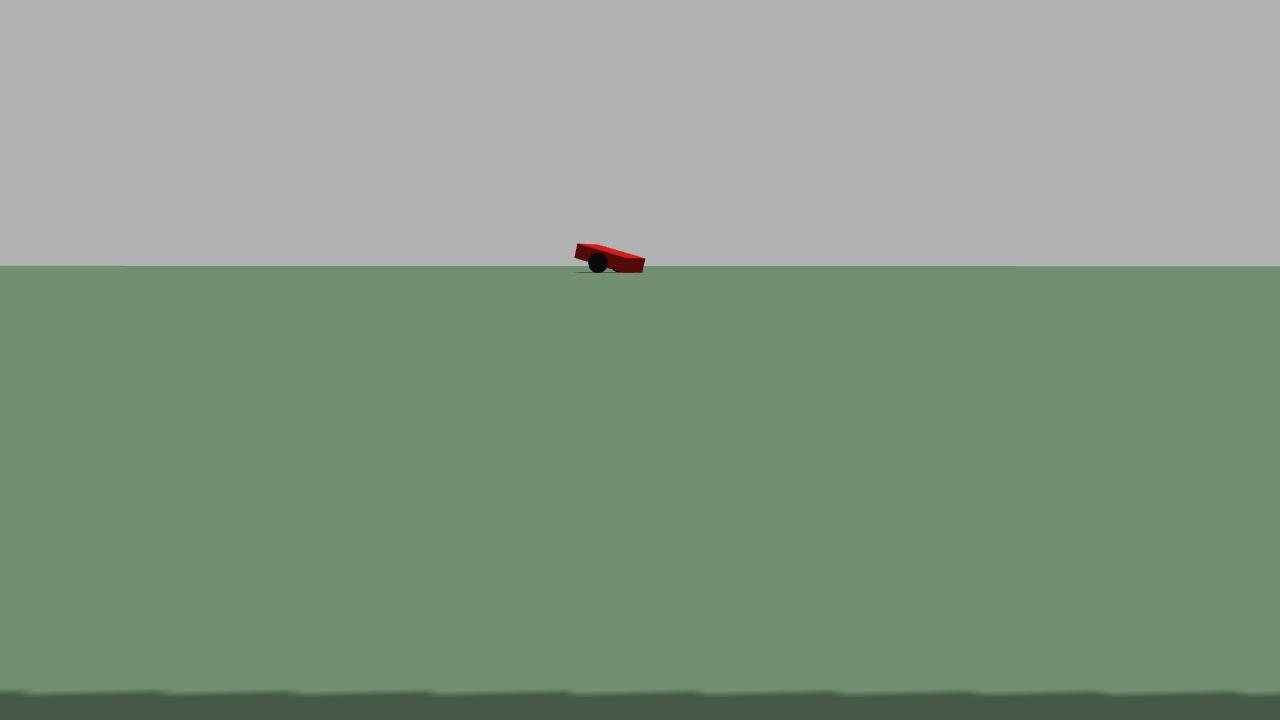ground_vehicle: (562, 228, 657, 289)
